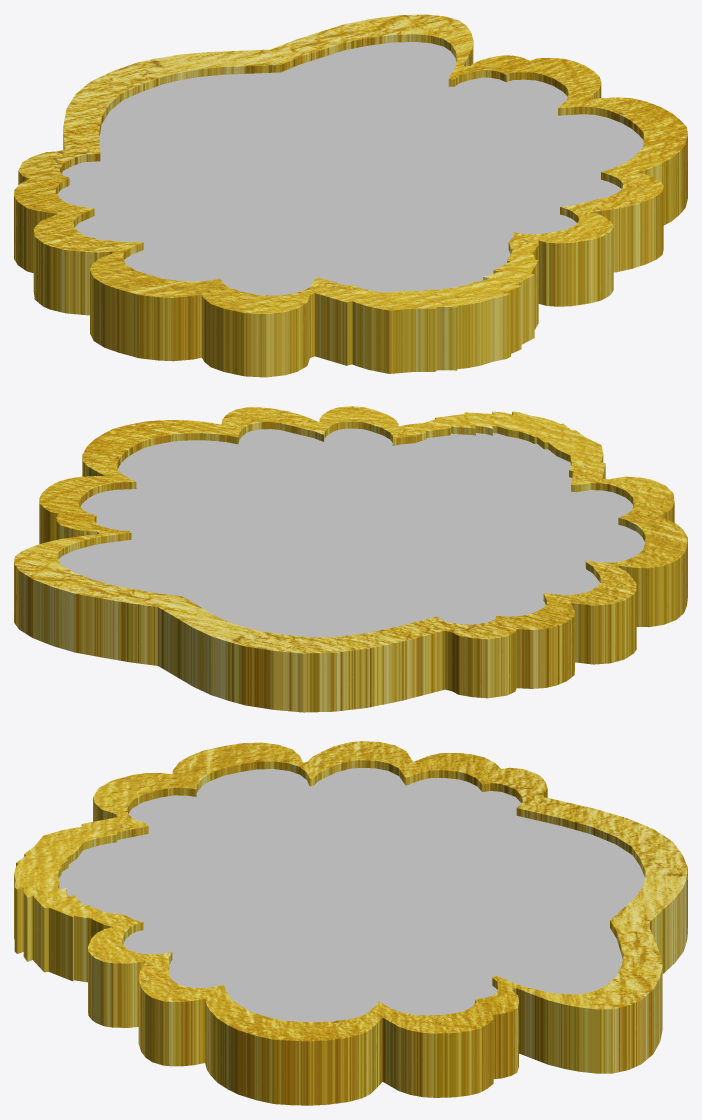
The model's file is Bonus_Lvl_2.FBX.
3 views of the same model, one above another, from view 1: azimuth 30°, elevation 25°; view 2: azimuth 150°, elevation 25°; view 3: azimuth 270°, elevation 25° (orthographic). The views are drawn at different scales.
Parts seen in each view (by area): view 1: Plane002, 4, 3, 5, 005, 7, 6, 2, 1; view 2: Plane002, 4, 3, 5, 005, 2, 6, 7, 1; view 3: Plane002, 4, 3, 5, 005, 7, 2, 6, 1.
Part boxes in pixels (x1,y1,x2,y2): Plane002: [14, 14, 687, 377]; 4: [57, 170, 440, 285]; 3: [426, 79, 643, 237]; 5: [272, 77, 505, 207]; 005: [64, 124, 440, 207]; 7: [99, 72, 279, 159]; 6: [271, 42, 456, 124]; 2: [227, 237, 482, 295]; 1: [426, 189, 621, 278]; Plane002: [14, 406, 687, 712]; 4: [367, 477, 644, 624]; 3: [80, 432, 429, 521]; 5: [96, 485, 366, 582]; 005: [286, 486, 465, 624]; 2: [430, 433, 633, 522]; 6: [58, 539, 285, 601]; 7: [192, 582, 419, 637]; 1: [248, 428, 487, 476]; Plane002: [14, 741, 687, 1105]; 4: [193, 768, 515, 918]; 3: [193, 898, 472, 1022]; 5: [247, 898, 506, 1005]; 005: [247, 797, 521, 918]; 7: [506, 816, 645, 927]; 2: [58, 795, 192, 897]; 6: [496, 898, 622, 994]; 1: [77, 898, 192, 987].
Bounding box in the file's own units: 4.3 × 0.4301 × 4.08.
